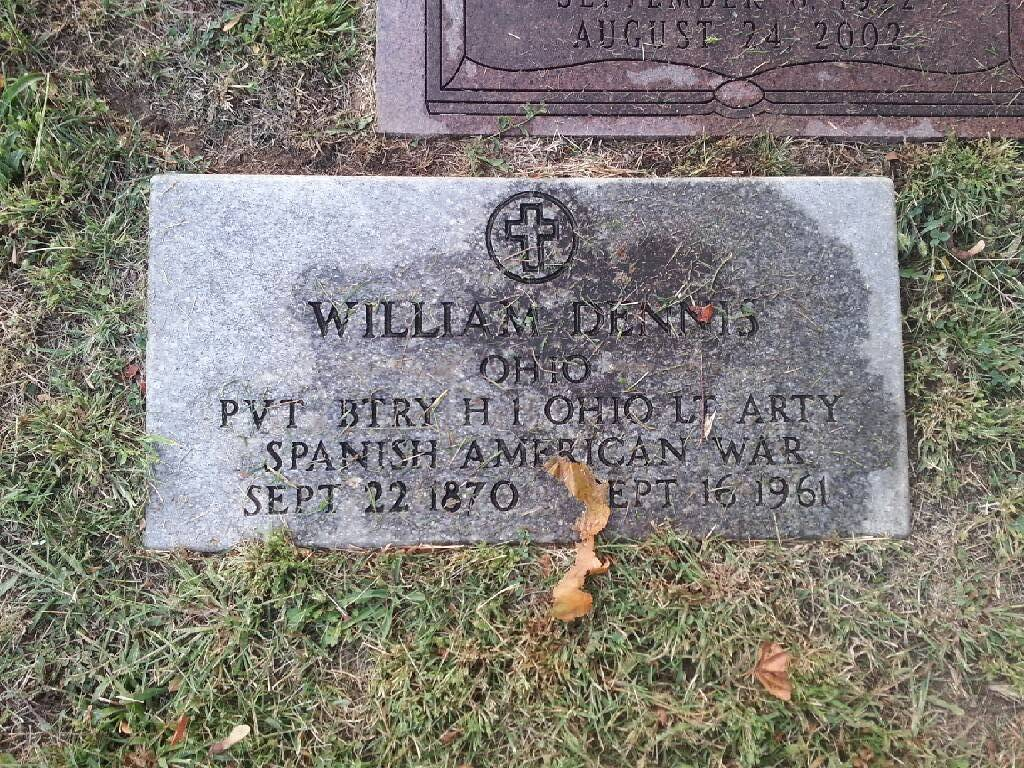military: (144, 168, 911, 538)
